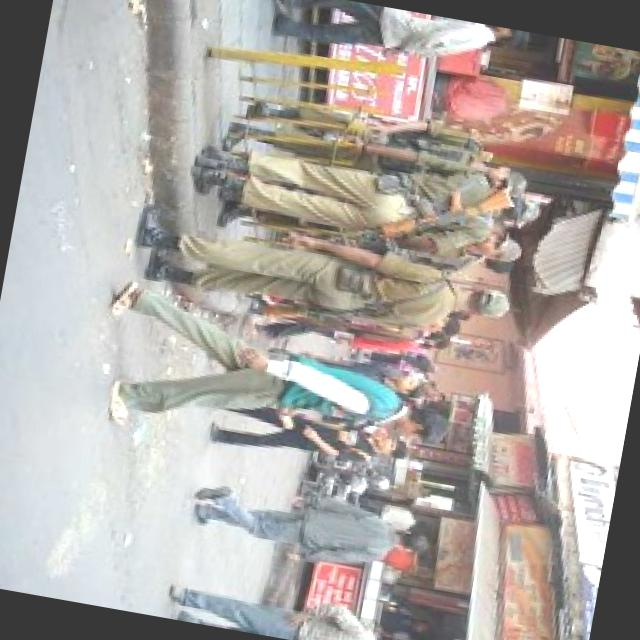long weapon: (362, 166, 512, 262)
